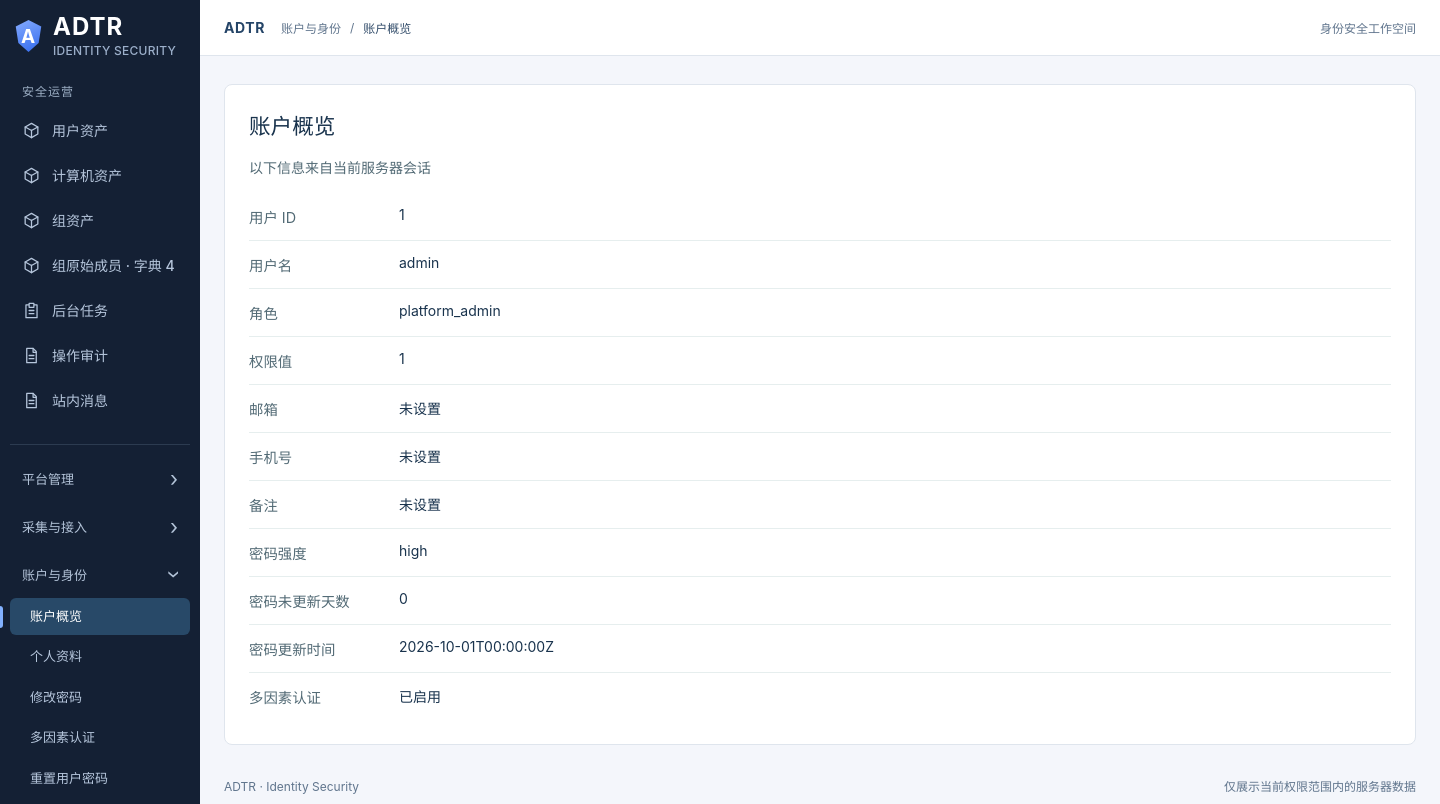
Scenario: server-driven navigation and sessions › requires both a readable menu and checked operation, hiding denied actions
Expected: the heading "账户概览" is shown, [249,113,335,139]
Click the heading "平台管理 ›": (48, 479) [22,466,178,491]
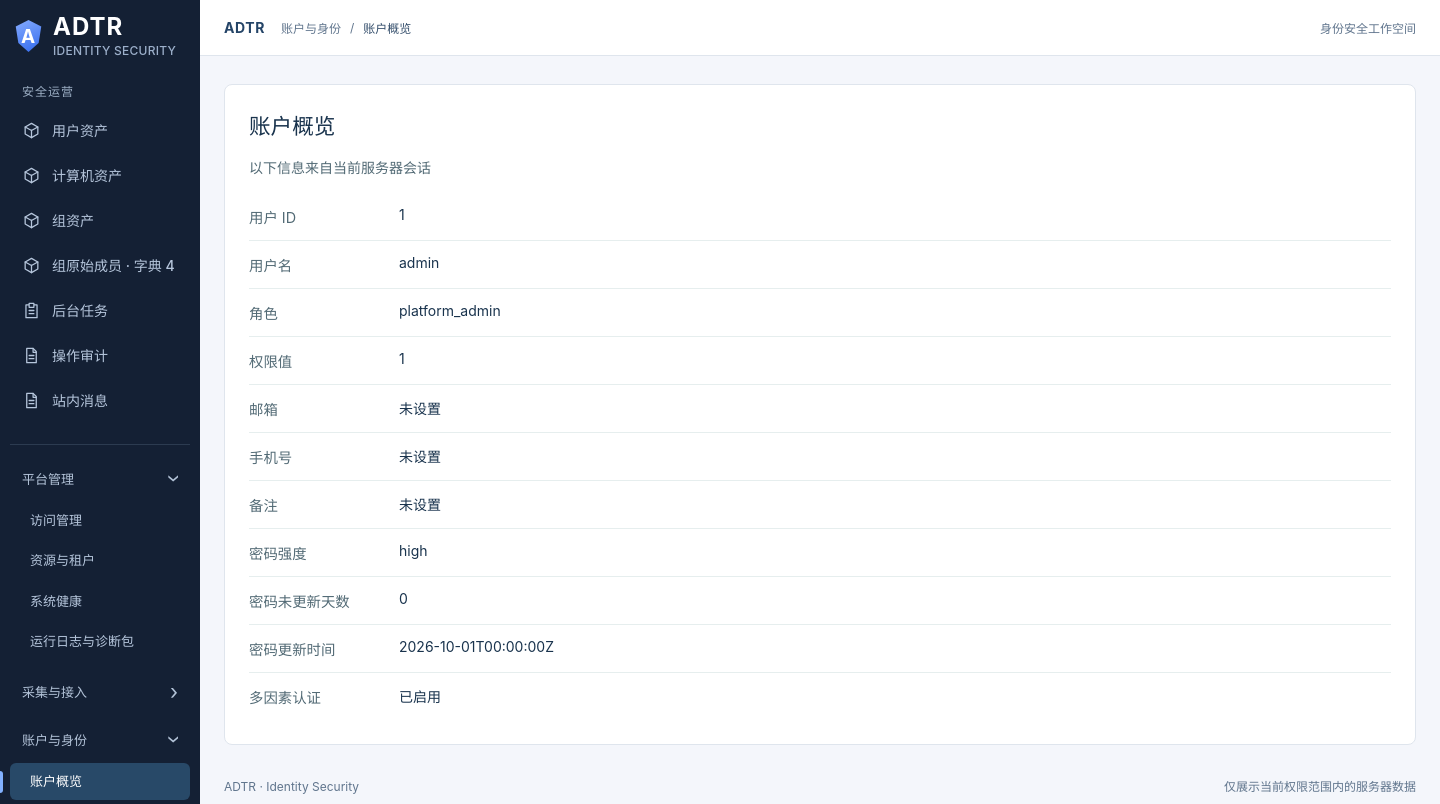
Expected: the button "访问管理" is shown
Click the button "访问管理": (100, 521) [10,502,190,539]
(page scrolled)
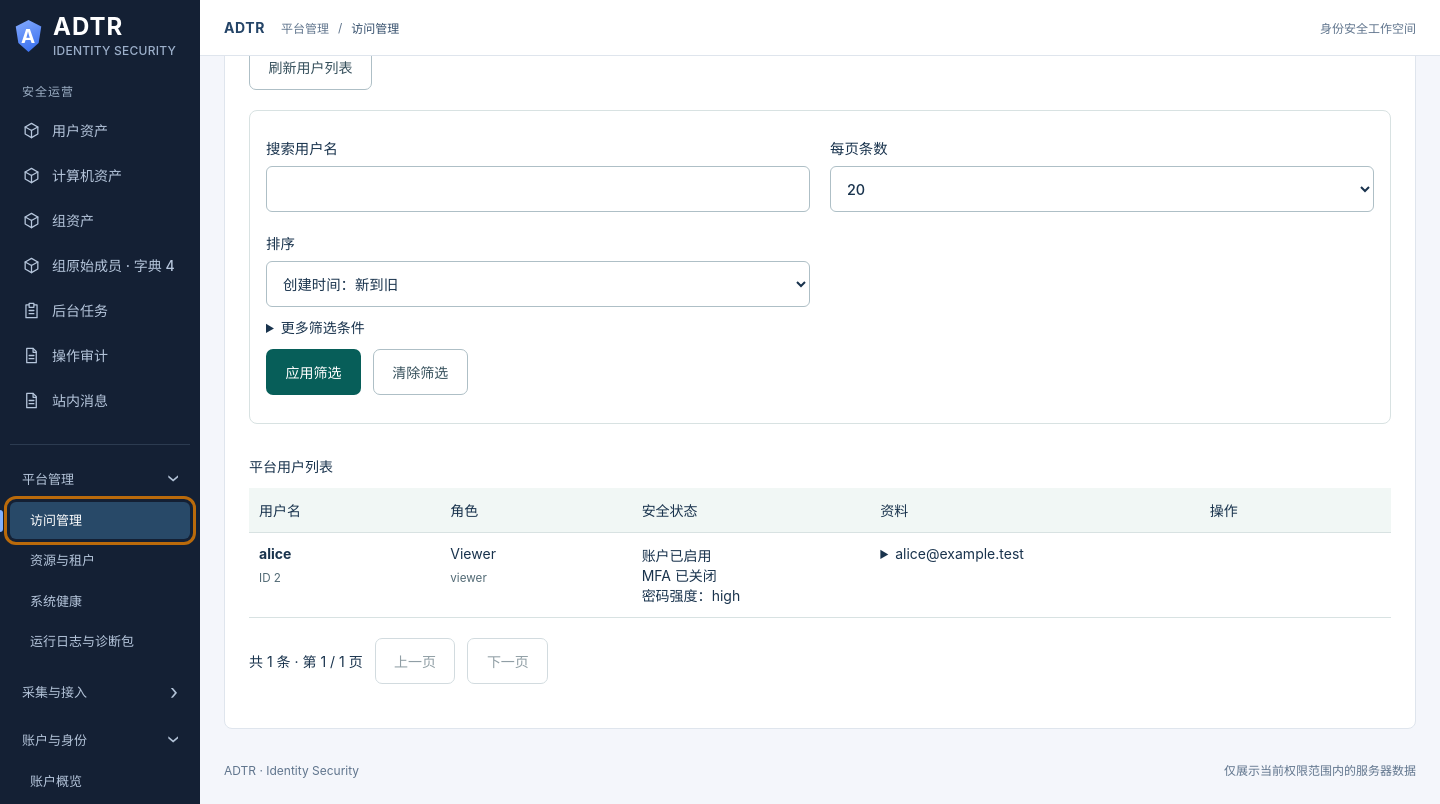
Expected: the table is shown, [249,444,1391,618]
